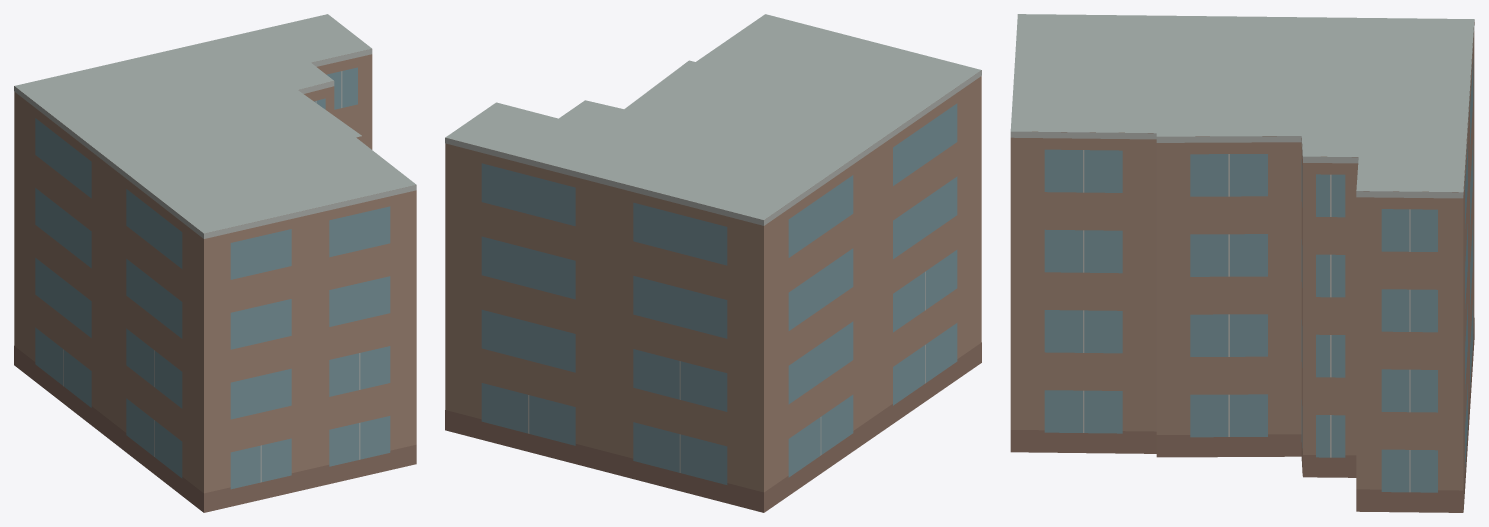
File: survey-upis-32866292.glb
3 renders of one model, left to right at view 1: azimuth 30°, elevation 25°; view 2: azimuth 150°, elevation 25°; view 3: azimuth 270°, elevation 25°, orthographic. The views are drawn at different scales.
Parts seen in each view (by area): view 1: survey-upis-32866292.tmp; view 2: survey-upis-32866292.tmp; view 3: survey-upis-32866292.tmp.
Part boxes in pixels (box(x1,y1,x2,y2)): survey-upis-32866292.tmp: box(14, 14, 416, 512); survey-upis-32866292.tmp: box(445, 14, 981, 512); survey-upis-32866292.tmp: box(1010, 14, 1474, 512).
Size of the model in its own units: 14.78 by 12.4 by 16.26.
